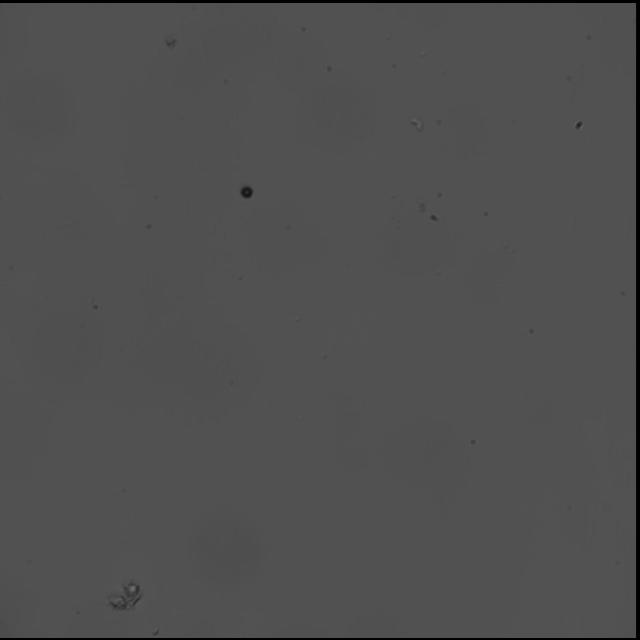microbeads: (240, 183, 254, 199)
